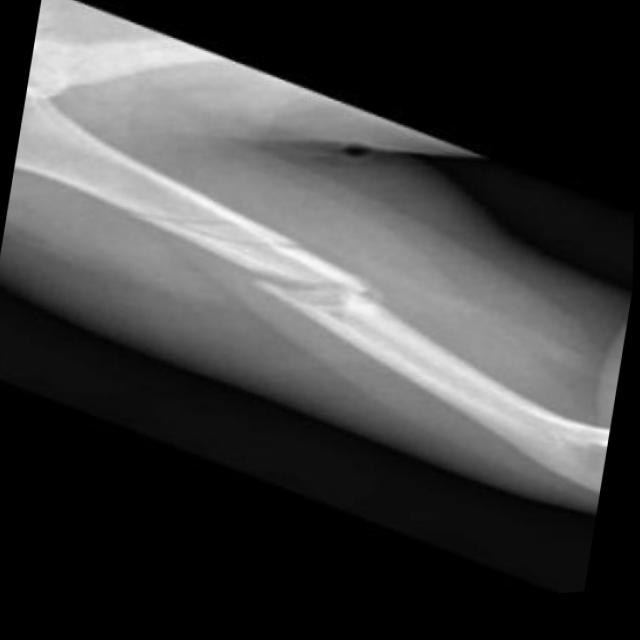fracture: (131, 186, 336, 286), (245, 262, 398, 343)
